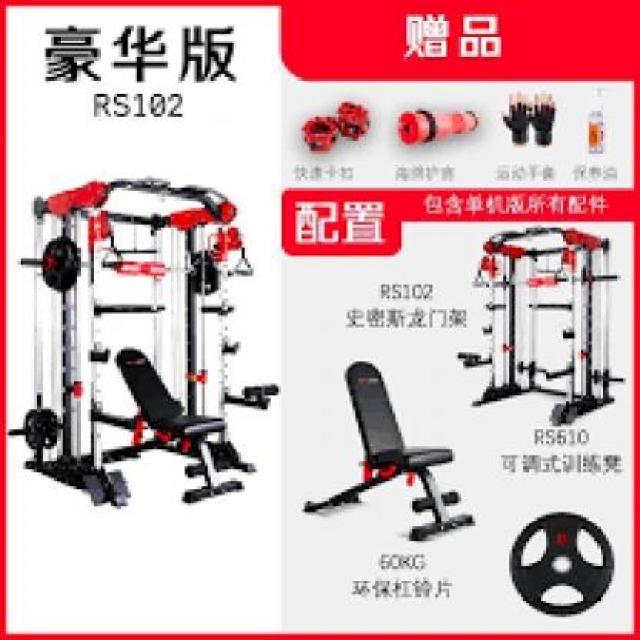smith machine: (12, 174, 280, 511), (471, 225, 631, 424)
